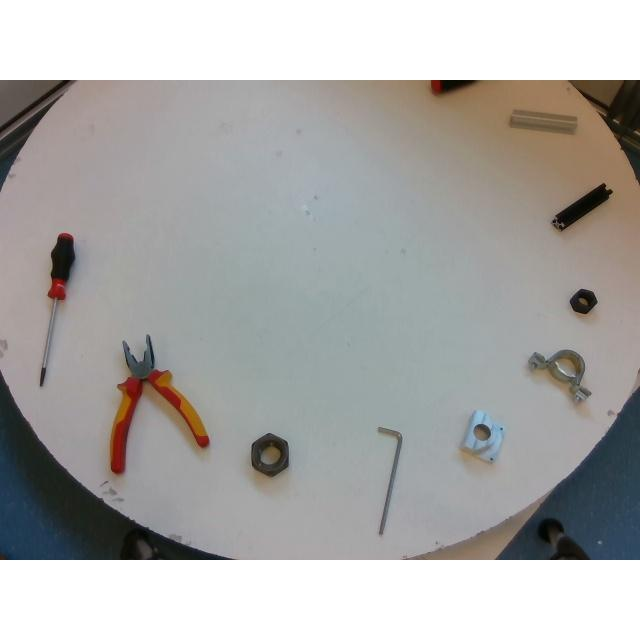F20_20_B: (552, 182, 612, 230)
F20_20_G: (510, 110, 576, 134)
Housing: (528, 349, 592, 401)
M20: (570, 289, 598, 313)
M30: (252, 432, 288, 476)
